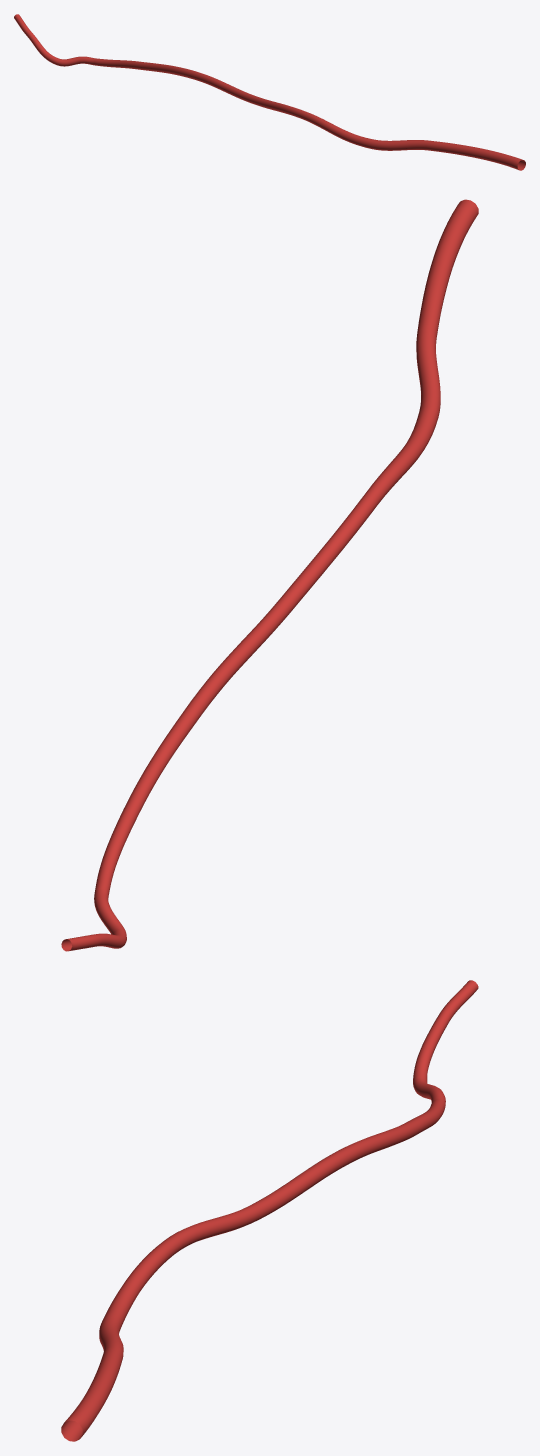
3 renders of one model, top to bottom at view 1: azimuth 30°, elevation 25°; view 2: azimuth 150°, elevation 25°; view 3: azimuth 330°, elevation 25°, orthographic. The views are drawn at different scales.
Visible parts, largest first — view 1: 右侧桡动脉; view 2: 右侧桡动脉; view 3: 右侧桡动脉.
Boxes of the visible parts, x1=… form: 右侧桡动脉: x1=14, y1=14, x2=525, y2=170; 右侧桡动脉: x1=61, y1=199, x2=478, y2=951; 右侧桡动脉: x1=61, y1=980, x2=478, y2=1441.
Bounding box in the file's own units: 0.0954 × 0.0584 × 0.3632.
